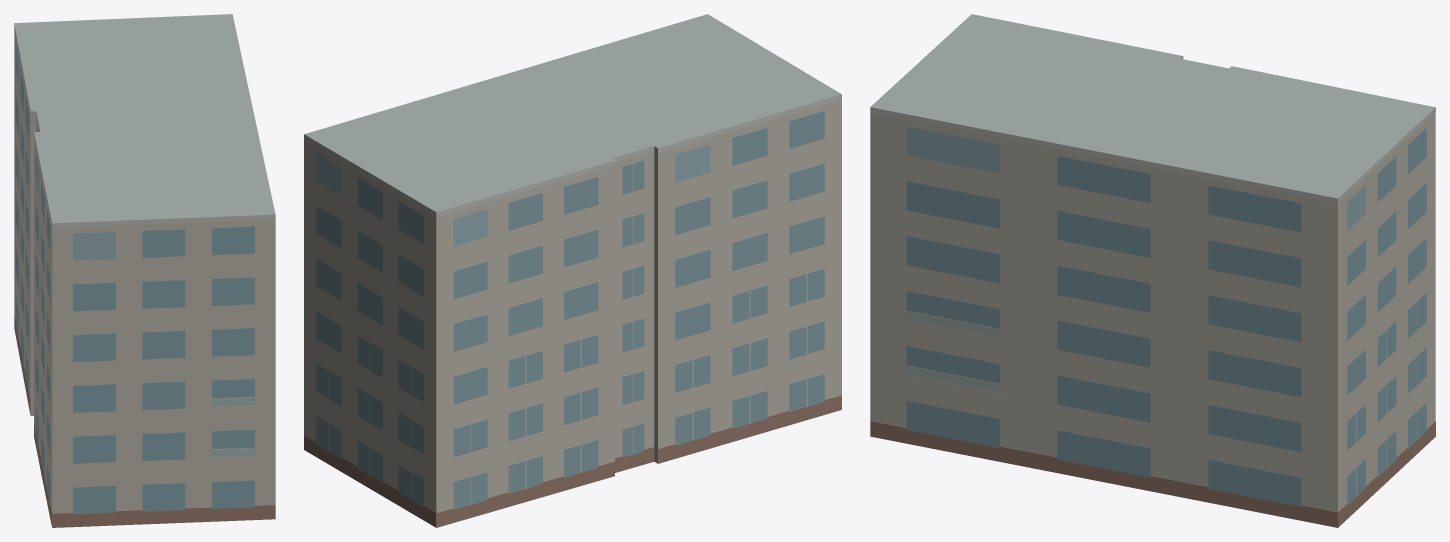
Rendered from survey-upis-32637813.glb.
3 renders of one model, left to right at view 1: azimuth 30°, elevation 25°; view 2: azimuth 150°, elevation 25°; view 3: azimuth 270°, elevation 25°, orthographic. The views are drawn at different scales.
Parts seen in each view (by area): view 1: survey-upis-32637813.tmp; view 2: survey-upis-32637813.tmp; view 3: survey-upis-32637813.tmp.
Boxes of the visible parts, box(x1,y1,x2,y2) form: survey-upis-32637813.tmp: box(14, 14, 275, 527); survey-upis-32637813.tmp: box(304, 14, 841, 527); survey-upis-32637813.tmp: box(870, 14, 1435, 527).
Size of the model in its own units: 18.75 by 15.6 by 24.29.
